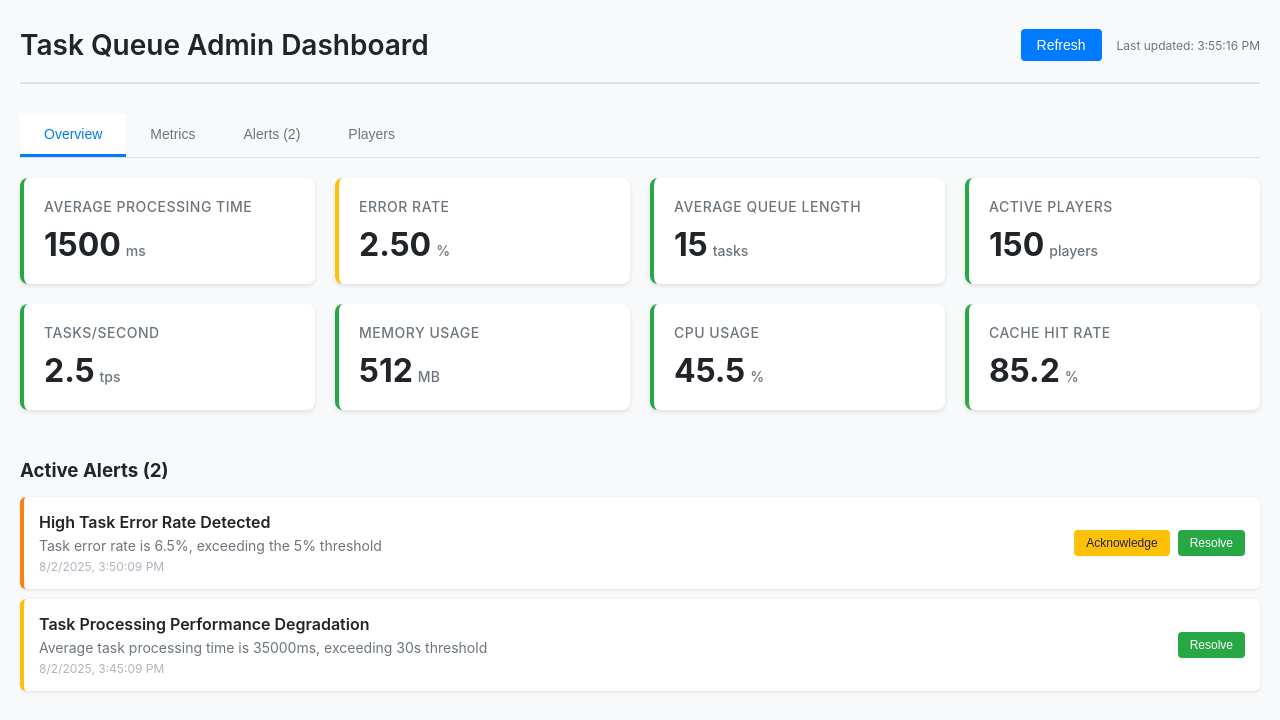
Test: TaskQueueAdminDashboard › switches to players tab and displays player metrics
Click the button "Players": (372, 136) left=324, top=114, right=419, bottom=157
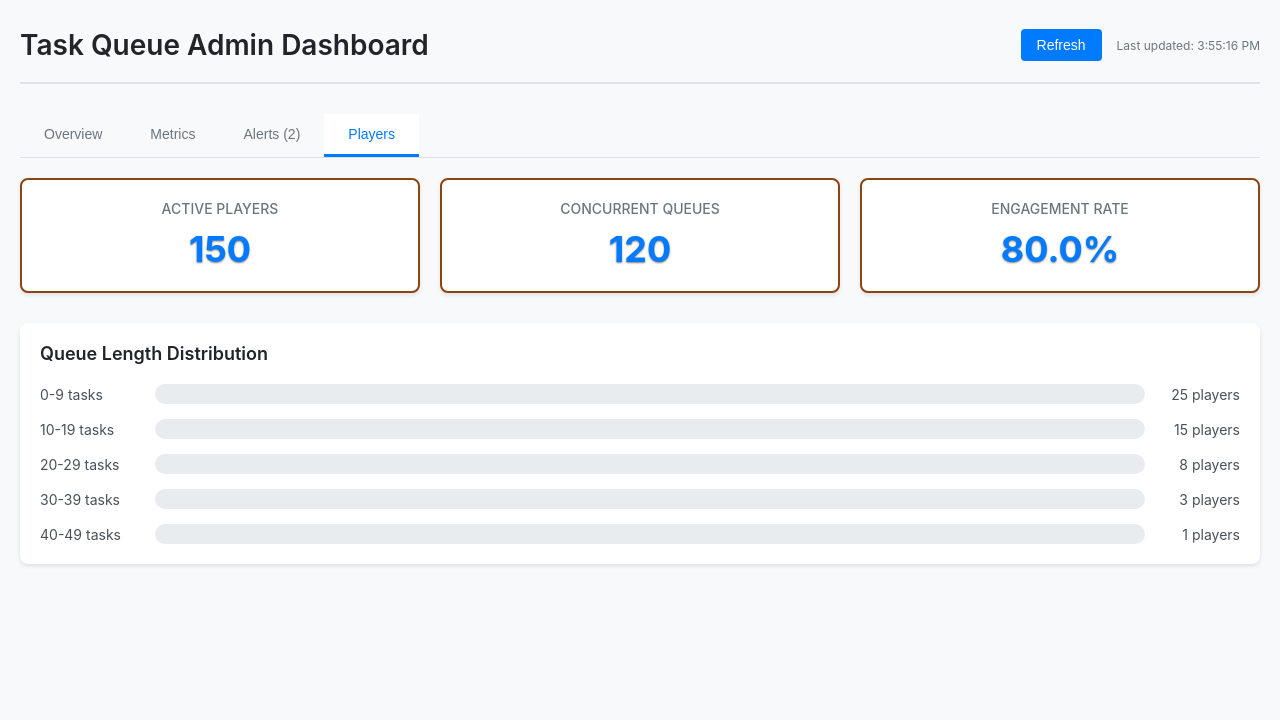
Now the heading "Concurrent Queues" is shown, box left=560, top=200, right=720, bottom=217
Now the text "120" is shown, box left=609, top=227, right=671, bottom=271
Now the heading "Engagement Rate" is shown, box left=991, top=200, right=1129, bottom=217
